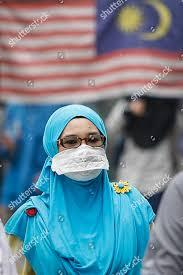Wearing Mask: (27, 80, 138, 208)
